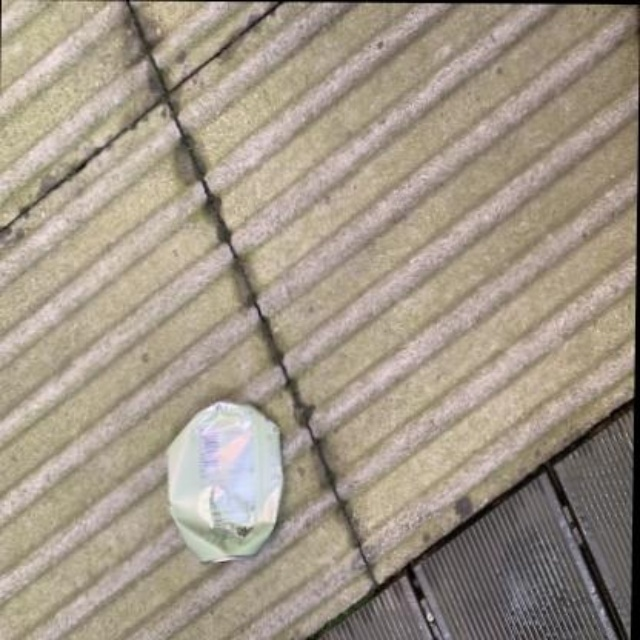trash: (168, 402, 282, 560)
